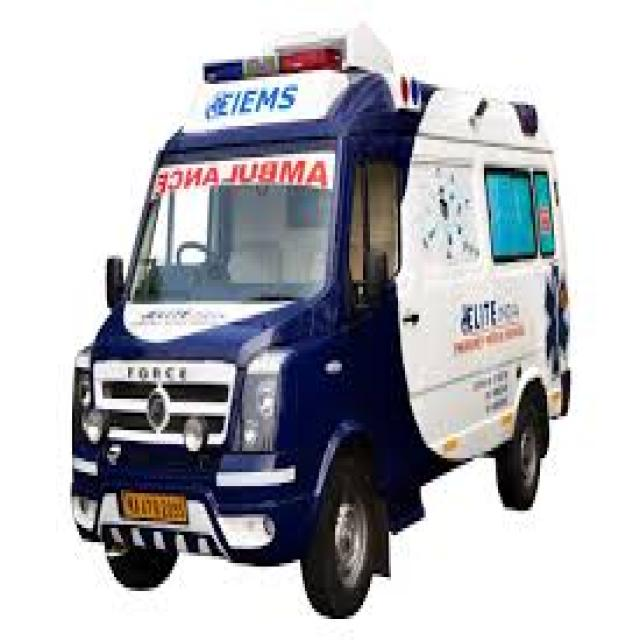ambulance: (75, 80, 565, 591), (556, 91, 635, 511)
